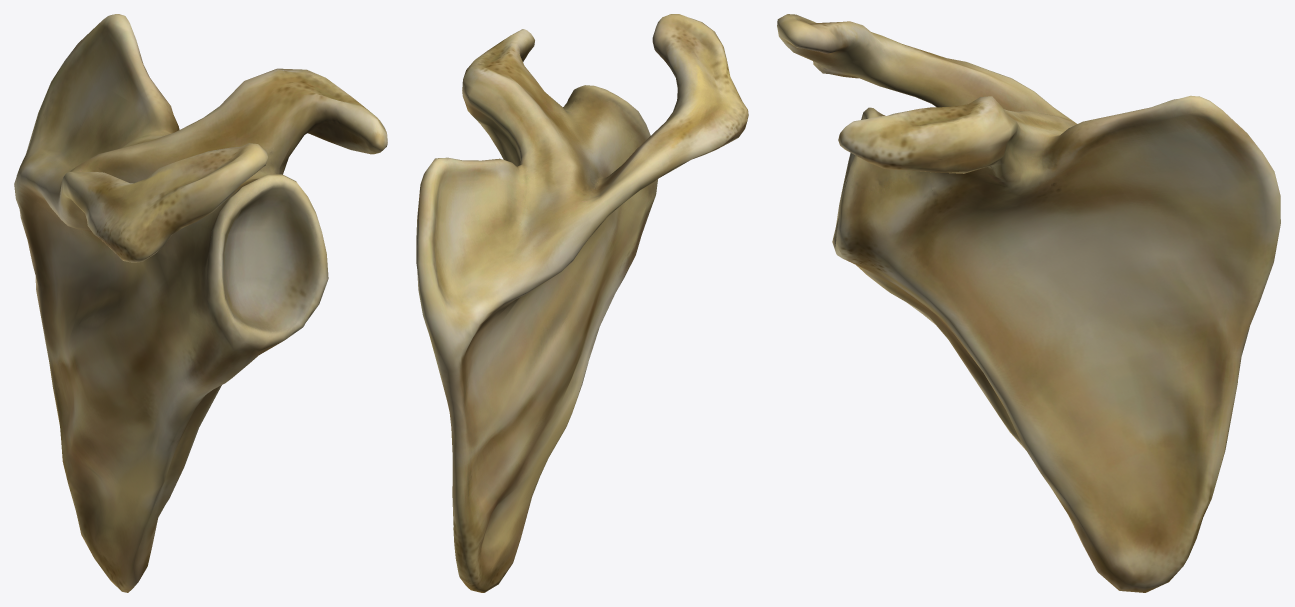
File: human_scapula.glb
3 renders of one model, left to right at view 1: azimuth 30°, elevation 25°; view 2: azimuth 150°, elevation 25°; view 3: azimuth 270°, elevation 25°, orthographic. The views are drawn at different scales.
Visible parts, largest first — view 1: Spapula_Low1:Group2_ilrOccSampler1_0; view 2: Spapula_Low1:Group2_ilrOccSampler1_0; view 3: Spapula_Low1:Group2_ilrOccSampler1_0.
Part boxes in pixels (x1,y1,x2,y2): Spapula_Low1:Group2_ilrOccSampler1_0: (14, 14, 387, 592); Spapula_Low1:Group2_ilrOccSampler1_0: (416, 14, 748, 592); Spapula_Low1:Group2_ilrOccSampler1_0: (777, 14, 1280, 592).
Size of the model in its own units: 20.97 by 40.34 by 33.55.
1 material, 1 textured.
